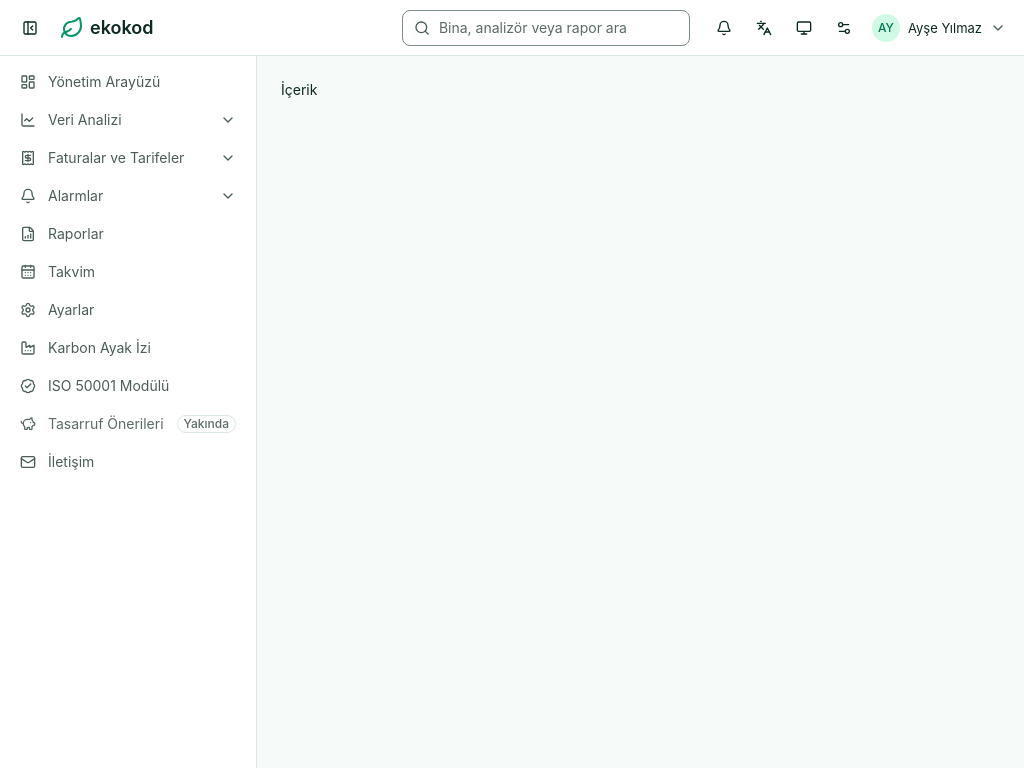
Test: /ekorm layout › renders the signed-in user with the role label
Click the button with aria-label "Kullanıcı menüsü: Ayşe Yılmaz" at [939, 28], box [866,10,1012,46]
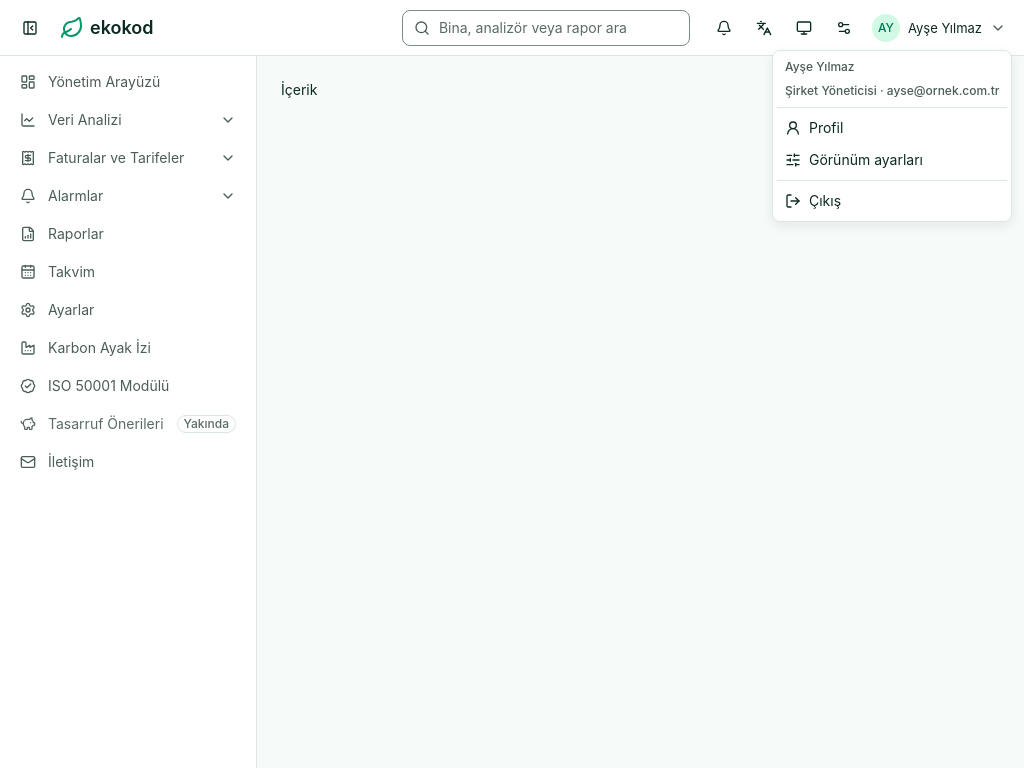
Result: the menu shows "Şirket Yöneticisi · ayse@ornek.com.tr" at [785,83,1000,98]
